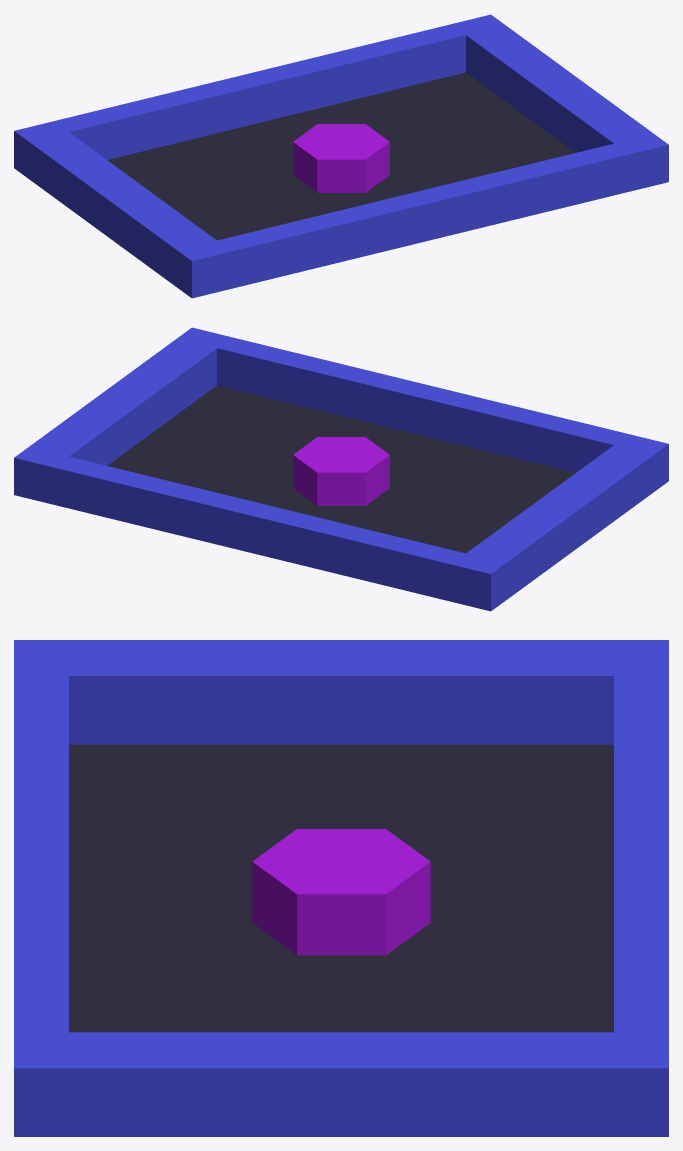
Rendered from Machine.fbx.
The picture shows the model from 3 angles, top to bottom: view 1: azimuth 30°, elevation 25°; view 2: azimuth 150°, elevation 25°; view 3: azimuth 270°, elevation 25°; orthographic projection. The views are drawn at different scales.
Visible parts, largest first — view 1: Machine; view 2: Machine; view 3: Machine.
Boxes of the visible parts, x1=… form: Machine: x1=14, y1=14, x2=668, y2=298; Machine: x1=14, y1=327, x2=668, y2=611; Machine: x1=14, y1=640, x2=668, y2=1136.
Bounding box in the file's own units: 1136 × 122 × 734.
